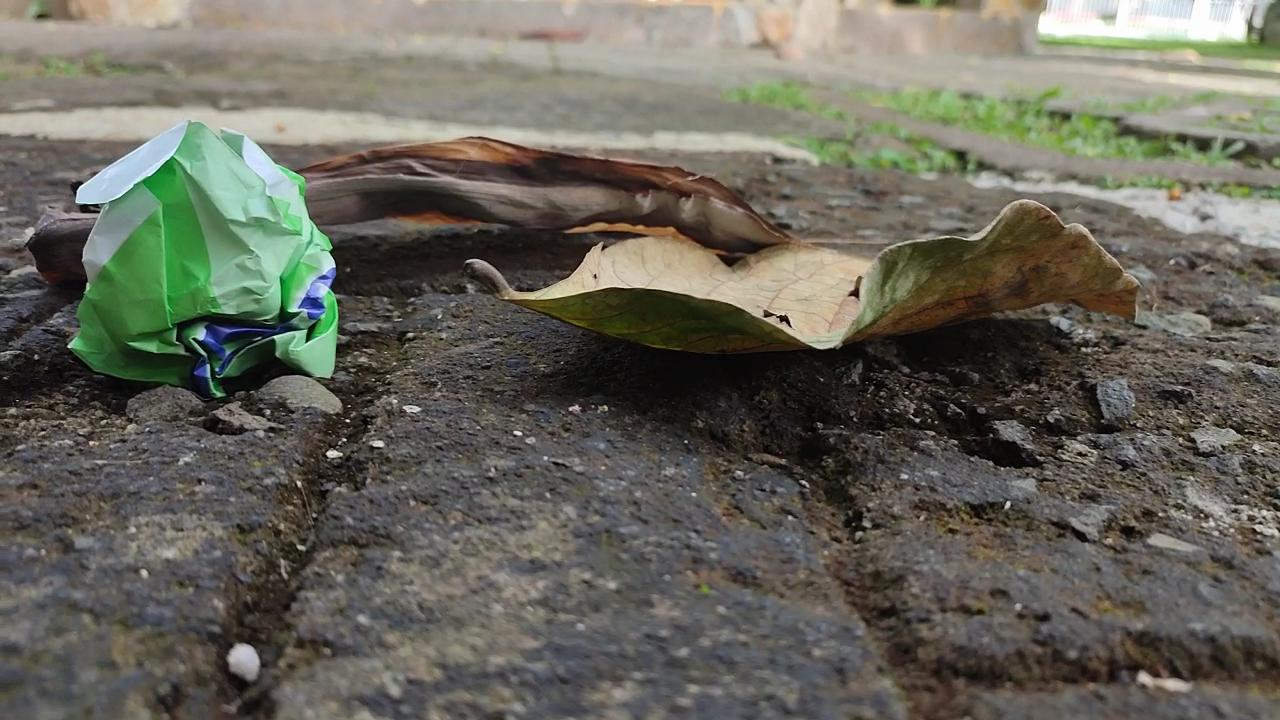Paper: (53, 106, 367, 412)
